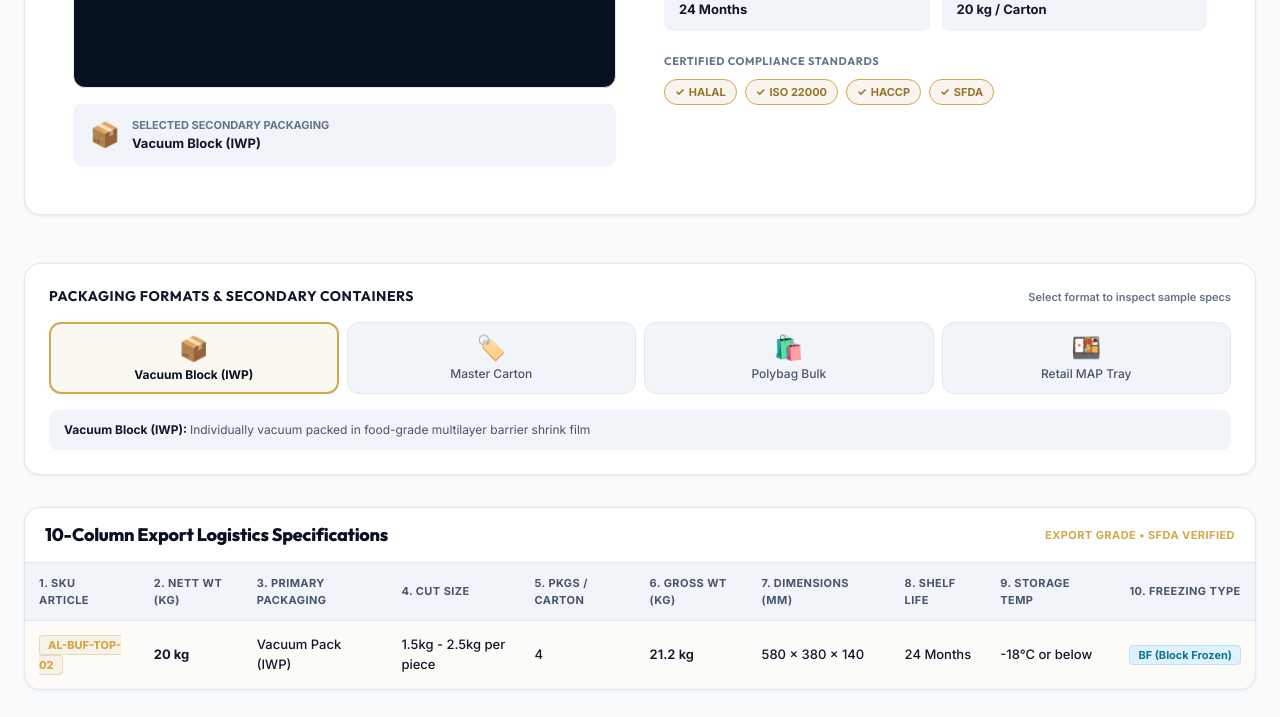
Test: FEAT-3.4 Product Detail Page Components › ProductDetailView › updates packaging showcase when packaging option is clicked
(page scrolled)
expect the text with test id "selected-packaging-label" reads "Vacuum Block (IWP)": met, box x1=132 y1=134 x2=261 y2=150
Click the radio button with test id "packaging-opt-carton": [491, 358] box x1=346 y1=322 x2=636 y2=394
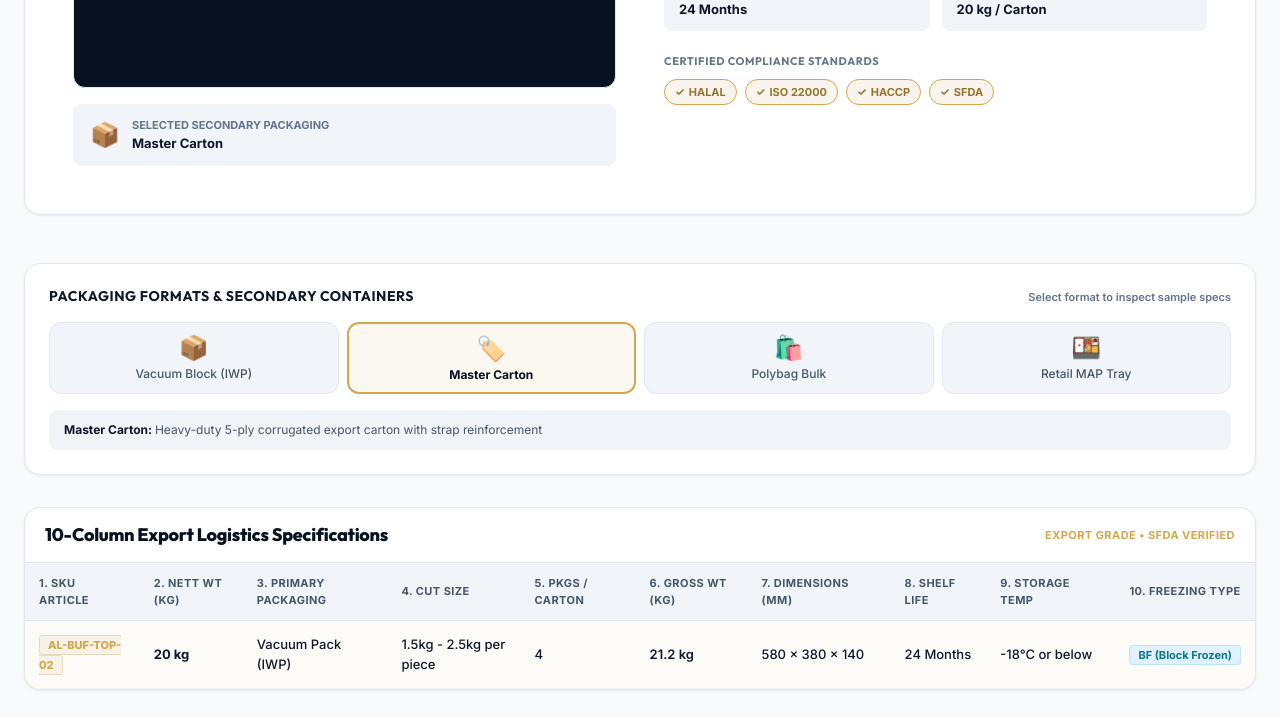
expect the text with test id "selected-packaging-label" reads "Master Carton": met, box x1=132 y1=134 x2=223 y2=150
